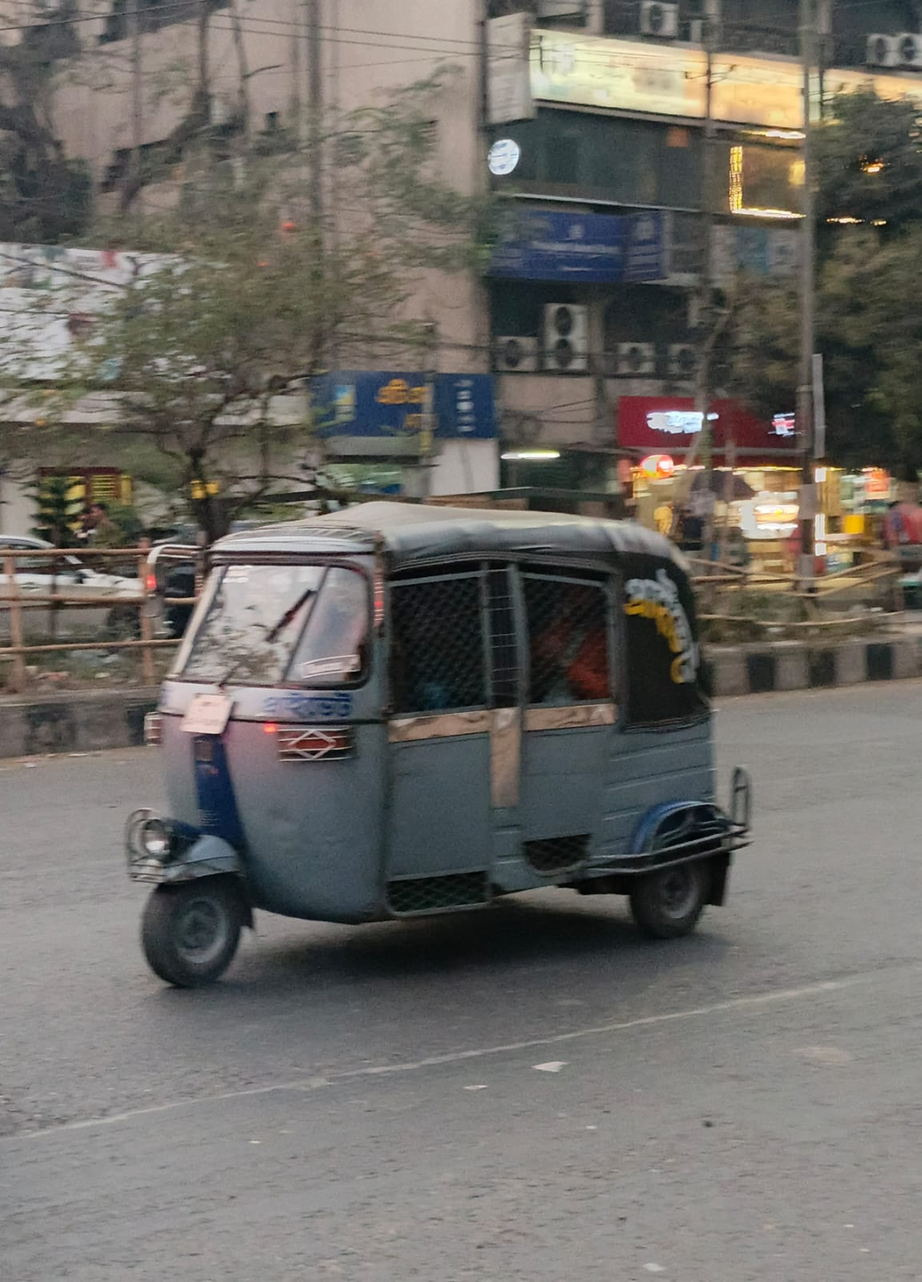cng: (112, 474, 744, 999)
